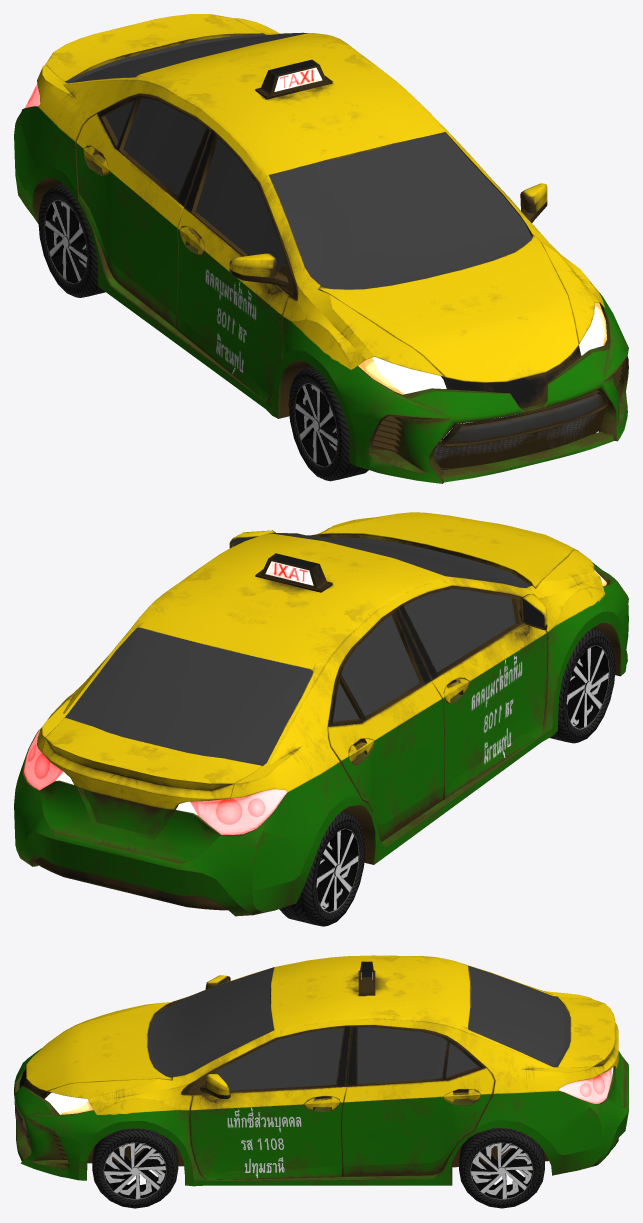
File: CAR_A.fbx
The picture shows the model from 3 angles, top to bottom: view 1: azimuth 30°, elevation 25°; view 2: azimuth 150°, elevation 25°; view 3: azimuth 270°, elevation 25°; orthographic projection. The views are drawn at different scales.
Visible parts, largest first — view 1: boby, Door2, Door4, Front_wheel_R, Rear_wheel, Door1; view 2: boby, Door2, Door4, Rear_wheel, Front_wheel_R; view 3: boby, Door1, Door3, Front_wheel_L, Rear_wheel.
Boxes of the visible parts, box(x1,y1,x2,y2) form: boby: box(14, 14, 628, 483); Door2: box(177, 129, 297, 401); Door4: box(76, 94, 210, 329); Front_wheel_R: box(288, 366, 368, 481); Rear_wheel: box(38, 183, 105, 297); Door1: box(520, 183, 547, 226); boby: box(14, 512, 628, 916); Door2: box(397, 586, 547, 799); Door4: box(328, 608, 444, 841); Rear_wheel: box(279, 812, 365, 926); Front_wheel_R: box(550, 628, 615, 743); boby: box(14, 955, 628, 1186); Door1: box(181, 1025, 351, 1179); Door3: box(341, 1025, 494, 1176); Front_wheel_L: box(92, 1128, 178, 1208); Rear_wheel: box(459, 1128, 544, 1208).
Size of the model in its own units: 210 by 167 by 486.
Materials: 3 (3 with a texture image).
